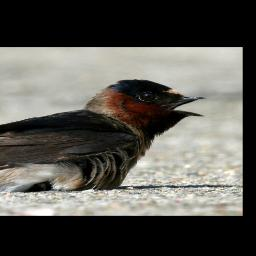Swallow: (0, 79, 209, 195)
